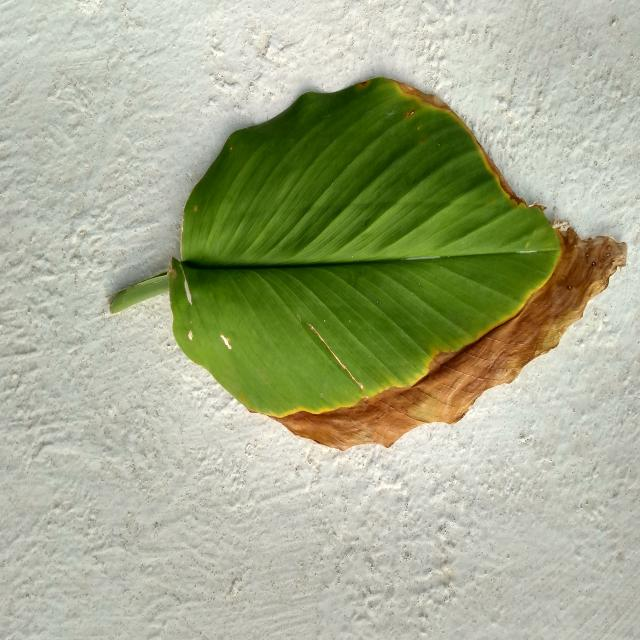leaf blotch: (110, 78, 626, 449)
